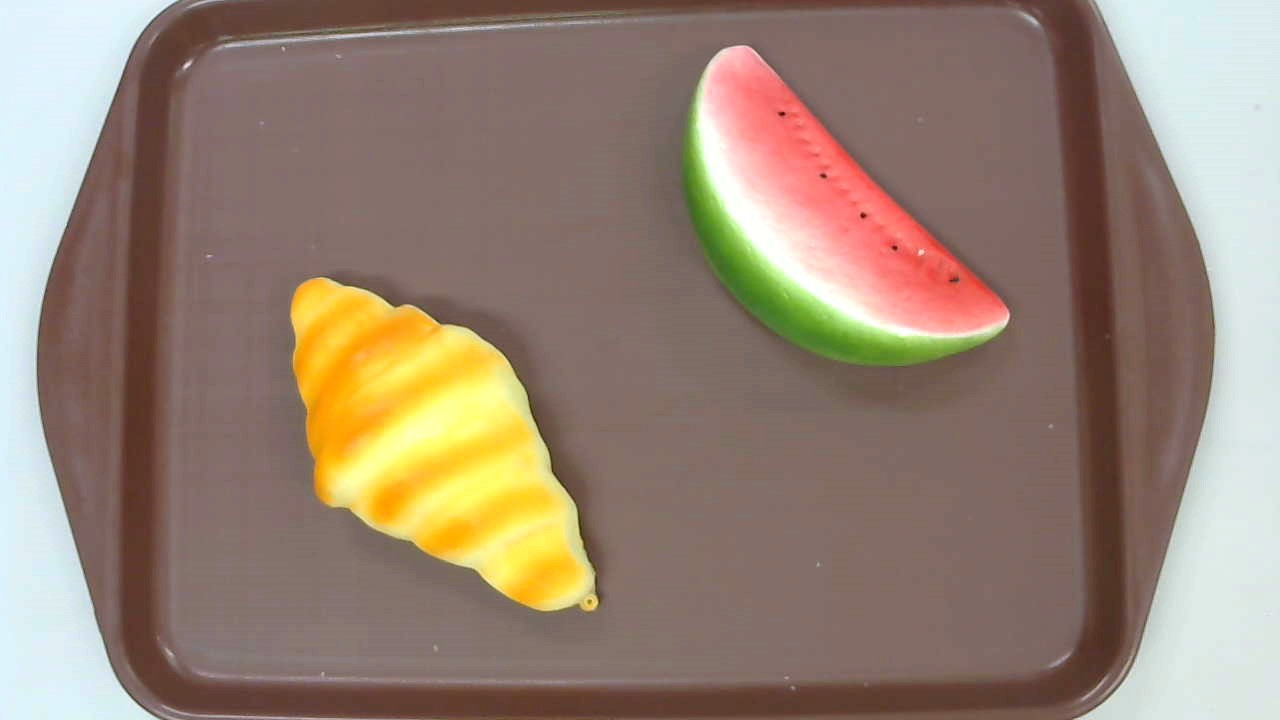croissant: (290, 277, 599, 615)
water melon: (680, 45, 1010, 366)
